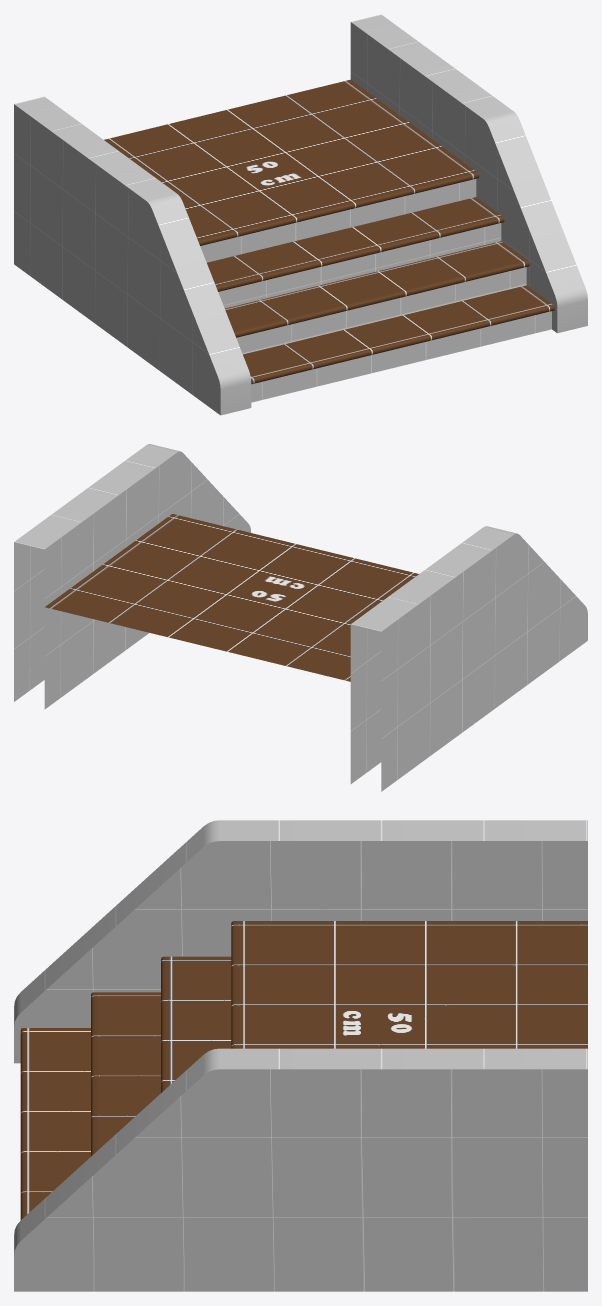
File: M01StairCase02_3.FBX
3 renders of one model, top to bottom at view 1: azimuth 30°, elevation 25°; view 2: azimuth 150°, elevation 25°; view 3: azimuth 270°, elevation 25°, orthographic. The views are drawn at different scales.
Parts seen in each view (by area): view 1: M01StairCase02_3; view 2: M01StairCase02_3; view 3: M01StairCase02_3.
Part boxes in pixels (box(x1,y1,x2,y2)): M01StairCase02_3: box(14, 14, 587, 415); M01StairCase02_3: box(14, 444, 587, 791); M01StairCase02_3: box(14, 820, 587, 1291).
Size of what is drawn, in the model's own units: 3 by 1.25 by 2.92.
